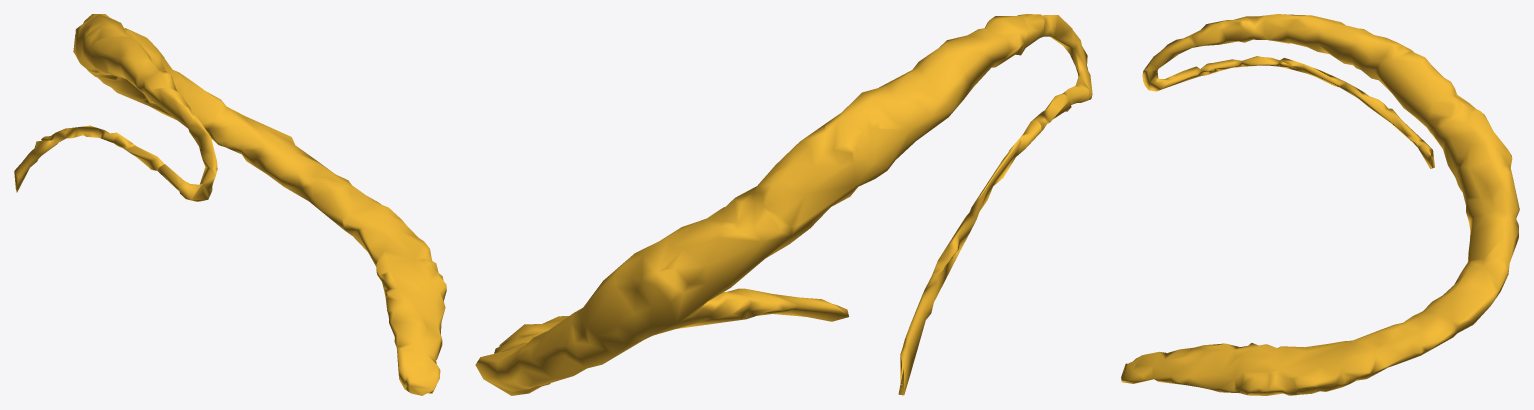
File: nervoso-choroid-plexus-l.glb
3 renders of one model, left to right at view 1: azimuth 30°, elevation 25°; view 2: azimuth 150°, elevation 25°; view 3: azimuth 270°, elevation 25°, orthographic. The views are drawn at different scales.
Visible parts, largest first — view 1: Choroid plexus.l; view 2: Choroid plexus.l; view 3: Choroid plexus.l.
Part boxes in pixels (<box>): Choroid plexus.l: <box>14,14,446,395</box>; Choroid plexus.l: <box>475,14,1092,395</box>; Choroid plexus.l: <box>1121,14,1519,395</box>.
Size of the model in its own units: 0.0363 by 0.0329 by 0.0421.
